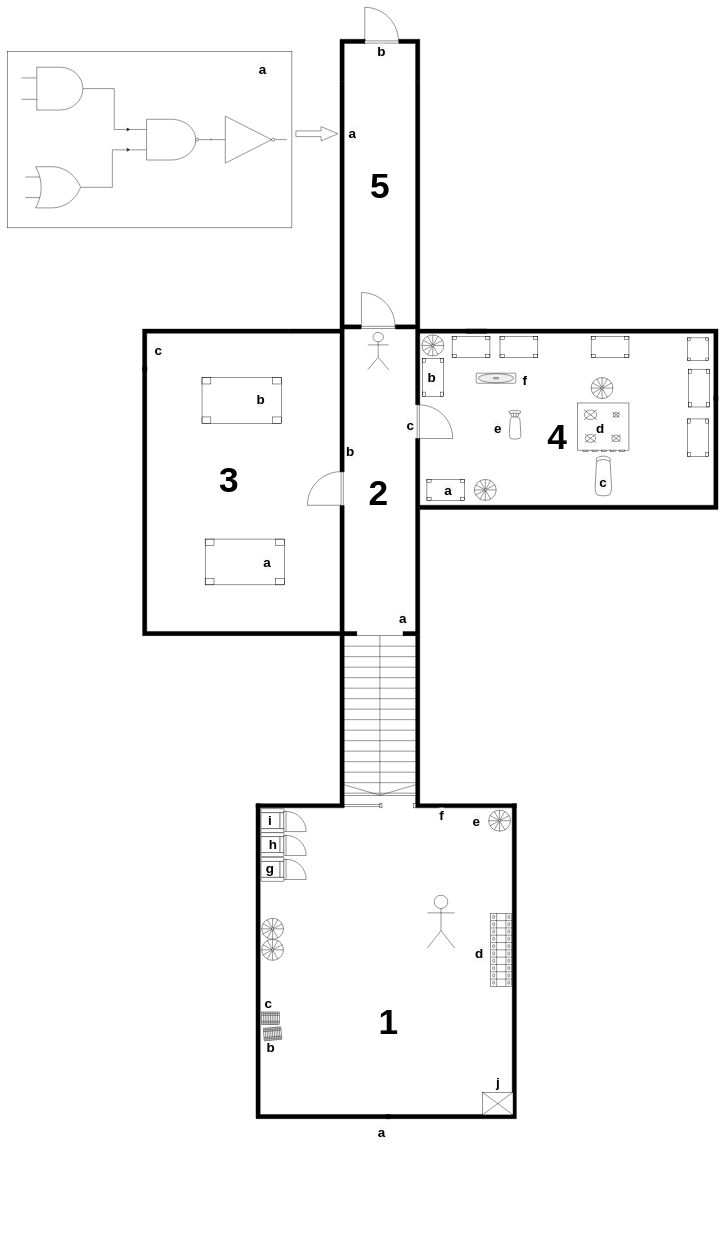
The diagram is 725 pixels wide and 1239 high, and some of its shapes have lost their labels. Here are the shapes that lost their labels. From the top down, the box of each, then its label:
(367, 332, 389, 370): Strażnik
(427, 895, 455, 948): Gracz
